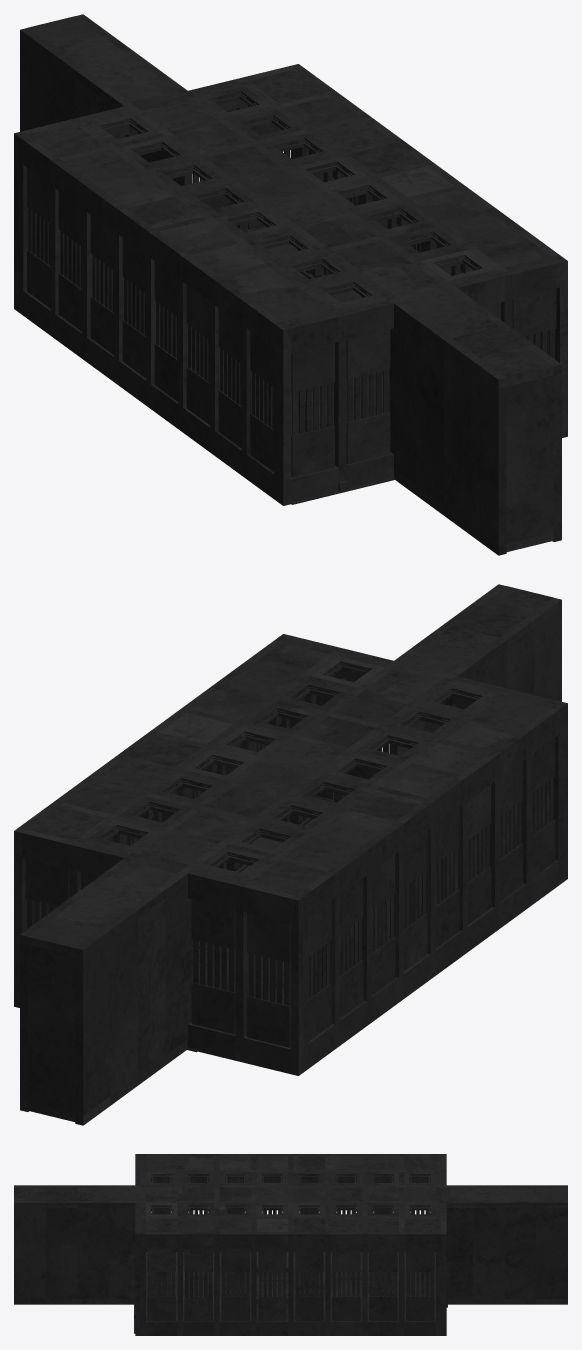
The model's file is beyond_spaces.glb.
3 views of the same model, one above another, from view 1: azimuth 30°, elevation 25°; view 2: azimuth 150°, elevation 25°; view 3: azimuth 270°, elevation 25° (orthographic). The views are drawn at different scales.
Parts seen in each view (by area): view 1: Plane.133; view 2: Plane.133; view 3: Plane.133.
Boxes of the visible parts, x1=… form: Plane.133: x1=14, y1=14, x2=567, y2=555; Plane.133: x1=14, y1=584, x2=567, y2=1125; Plane.133: x1=14, y1=1154, x2=567, y2=1335.
Bounding box in the file's own units: 1151 × 679 × 3355.
1 material, 1 textured.
